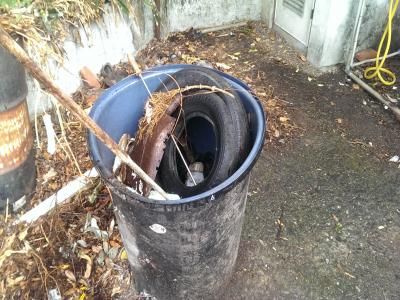bucket: (84, 62, 268, 299)
tire: (140, 65, 254, 198)
